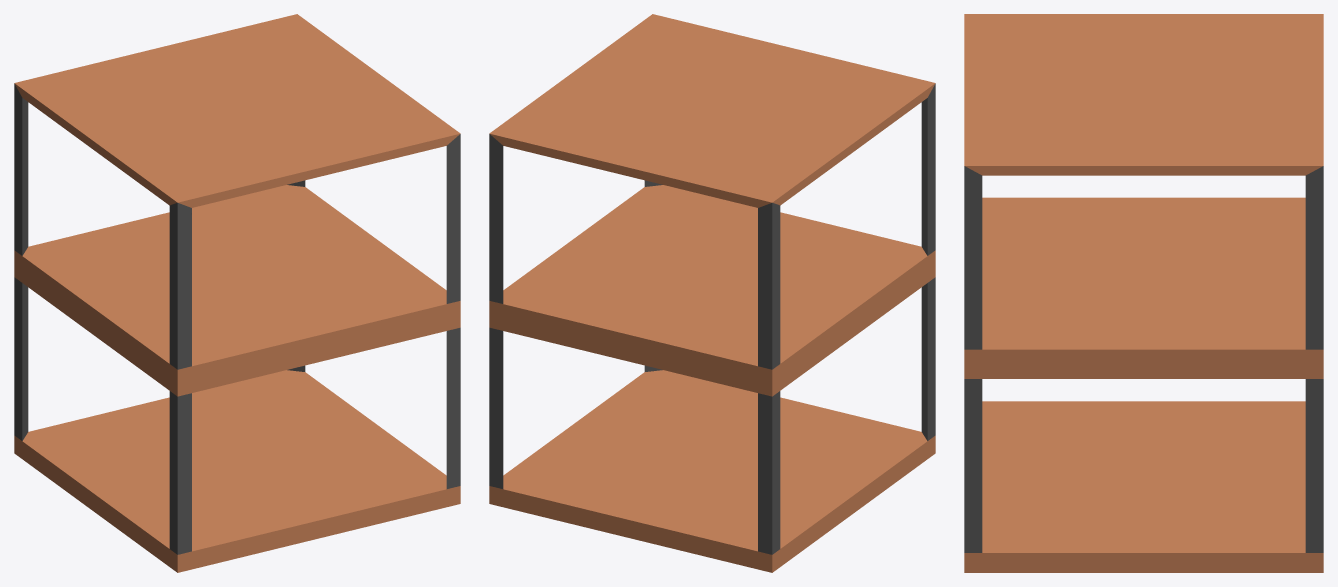
The model's file is Book Stand.fbx.
The picture shows the model from 3 angles, left to right: view 1: azimuth 30°, elevation 25°; view 2: azimuth 150°, elevation 25°; view 3: azimuth 270°, elevation 25°; orthographic projection. The views are drawn at different scales.
Parts seen in each view (by area): view 1: Book Stand; view 2: Book Stand; view 3: Book Stand.
Part boxes in pixels (bbox=[...]): Book Stand: bbox=[14, 14, 460, 572]; Book Stand: bbox=[489, 14, 935, 572]; Book Stand: bbox=[964, 14, 1323, 572].
Size of the model in its own units: 400 by 500 by 400.
